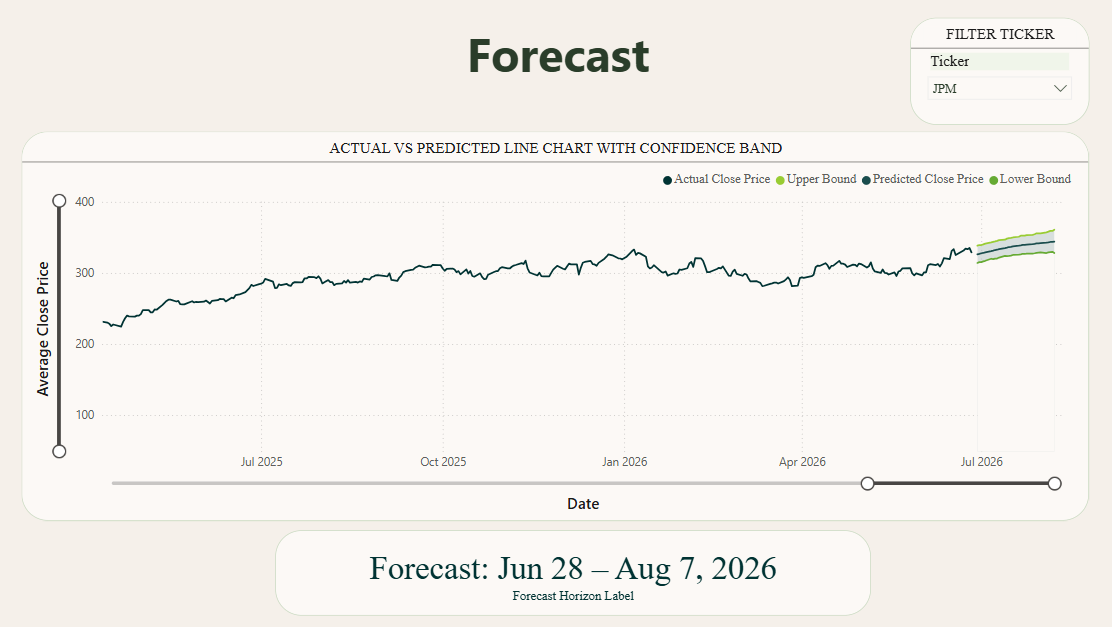

Layout of this report page (visuals, bound fields, positions):
{"tool":"powerbi","page":{"name":"Forecast","canvas":[1280,720],"ordinal":2},"visuals":[{"type":"textbox","box":[336.2,22,606.5,93.3],"z":0},{"type":"slicer","title":"FILTER TICKER","fields":{"Values":["Tickers.Ticker"]},"box":[1041.5,22,204.5,122.1],"z":1000},{"type":"areaChart","title":"ACTUAL VS PREDICTED LINE CHART WITH CONFIDENCE BAND","fields":{"Category":["DateTable.Date"],"Y":["Avg(raw_prices.close)","forecasts.Upper Bound","forecasts.Predicted Close Price","forecasts.Lower Bound"]},"box":[26.1,150.9,1219.9,444.6],"z":2000},{"type":"card","fields":{"Values":["forecasts.Forecast Horizon Label"]},"box":[315.6,606.5,680.6,97.4],"z":3000}]}

Visuals, with their boxes in screenshot pixels (x1, y1, x2, y2), scaled from the page's 1280x720 canvas onto the 1112x627 screenshot:
textbox: box=[292, 19, 819, 100]
"FILTER TICKER" slicer: box=[905, 19, 1082, 125]
"ACTUAL VS PREDICTED LINE CHART WITH CONFIDENCE BAND" areaChart: box=[23, 131, 1082, 519]
card - forecasts.Forecast Horizon Label: box=[274, 528, 865, 613]
